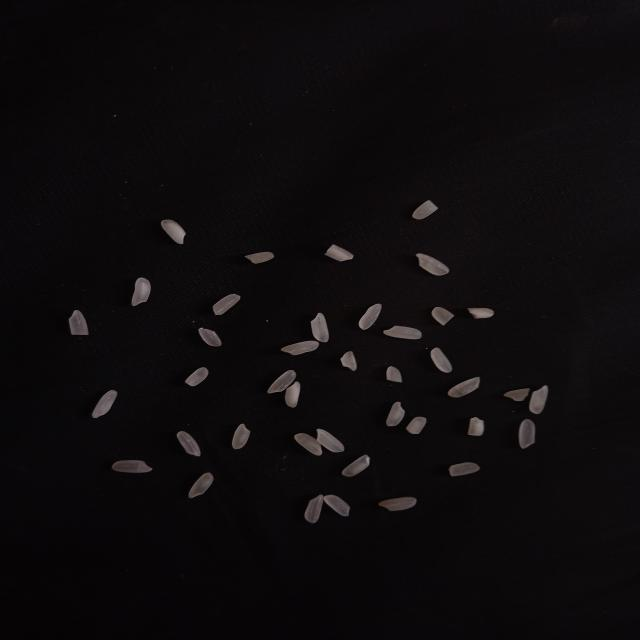Broken: (212, 294, 241, 316), (68, 310, 89, 336), (324, 244, 354, 262), (412, 200, 438, 220), (184, 366, 209, 386), (198, 327, 222, 347), (432, 306, 454, 326), (449, 462, 480, 476), (244, 251, 276, 264), (505, 388, 530, 402), (408, 417, 428, 434), (467, 307, 494, 319), (341, 351, 357, 371), (468, 417, 484, 436), (386, 366, 403, 382)
Full: (91, 389, 118, 418), (416, 253, 450, 276), (446, 376, 481, 398), (316, 428, 345, 453), (188, 472, 214, 498), (176, 431, 202, 457), (268, 370, 296, 394), (294, 432, 322, 456), (161, 219, 186, 245), (358, 303, 382, 330), (342, 454, 370, 477), (378, 496, 417, 512), (429, 347, 453, 373), (304, 494, 324, 524), (281, 341, 321, 356), (131, 278, 152, 306), (324, 495, 350, 517), (383, 325, 422, 339), (311, 312, 329, 342), (231, 423, 251, 450), (519, 420, 536, 450), (530, 386, 548, 414), (111, 460, 153, 472), (386, 402, 405, 428), (285, 380, 300, 407)
